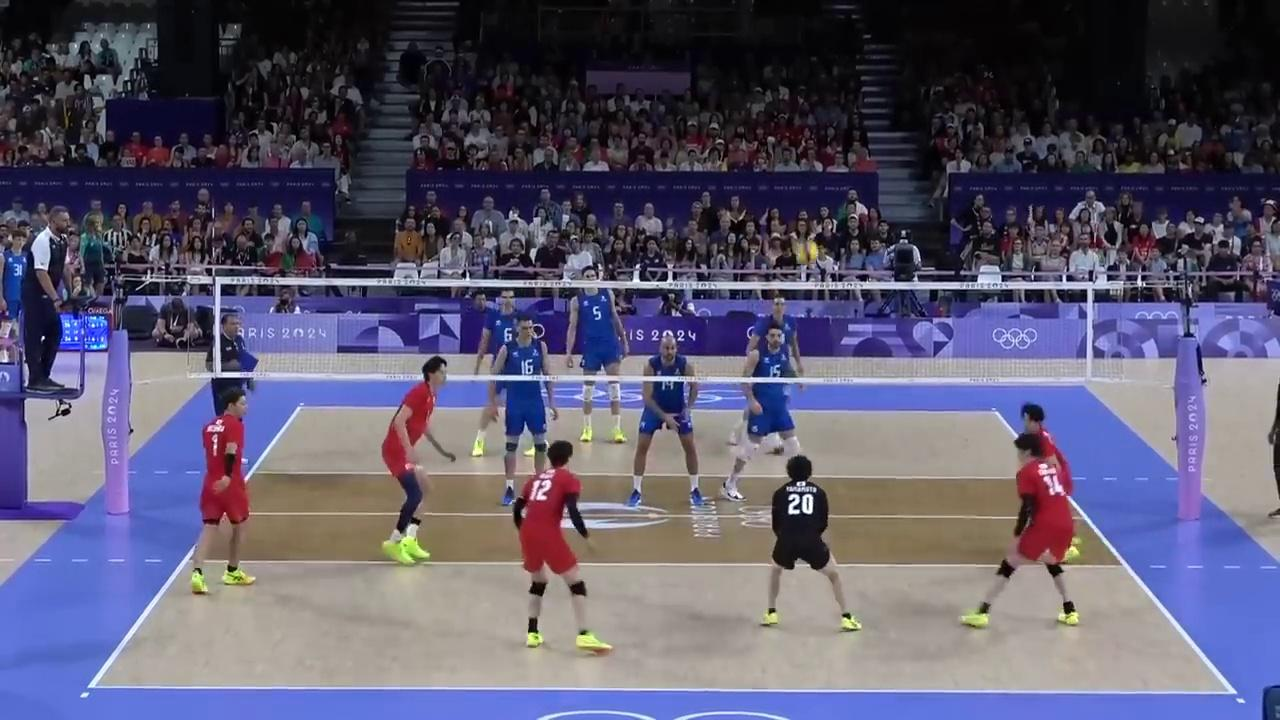ball: (794, 241, 817, 264)
